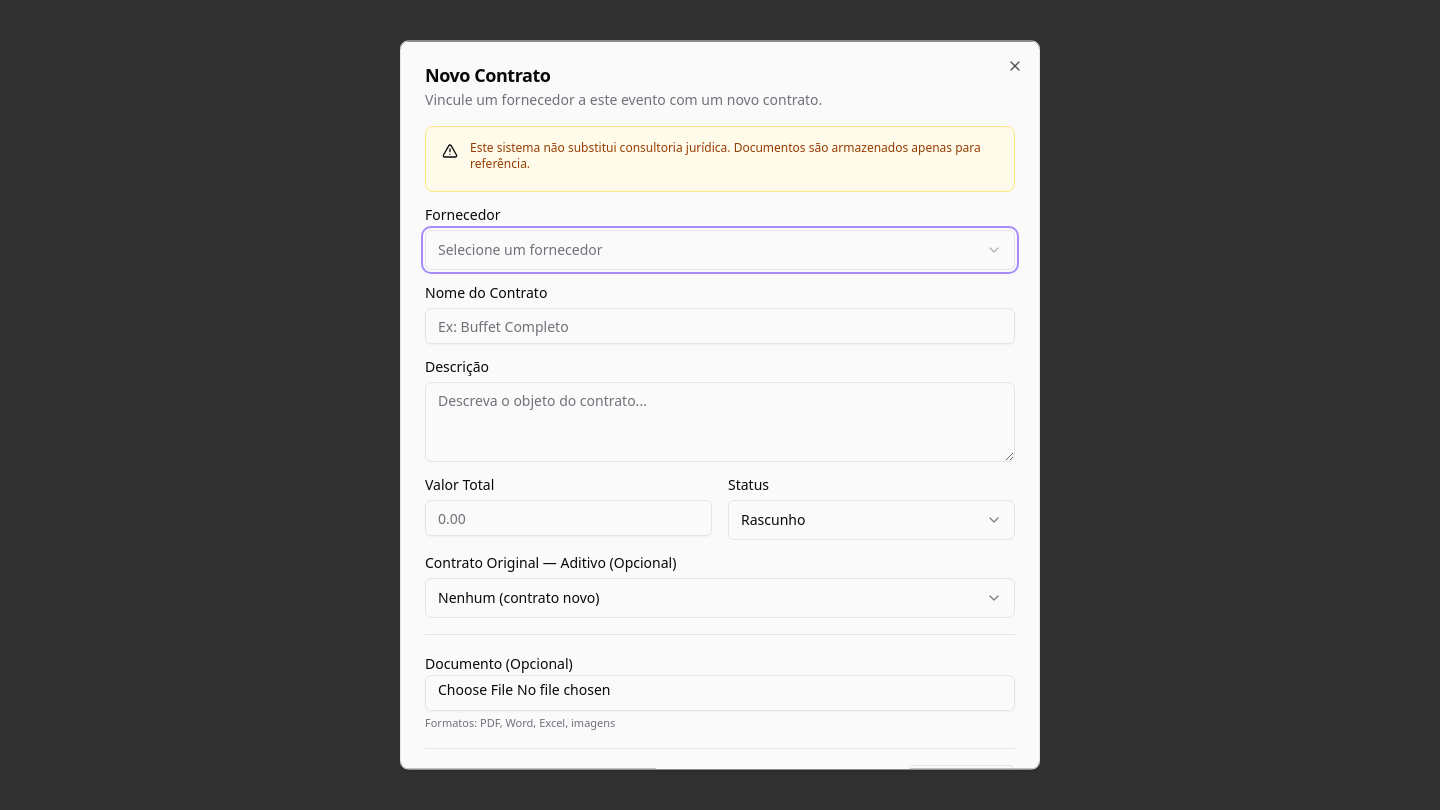
Test case: ContractUploadDialog › allows selecting an existing contract from parent dropdown when creating addendum
This screenshot has width=1440, height=810.
Click the dropdown named "contrato original" at (519, 597), box [425, 578, 1015, 618]
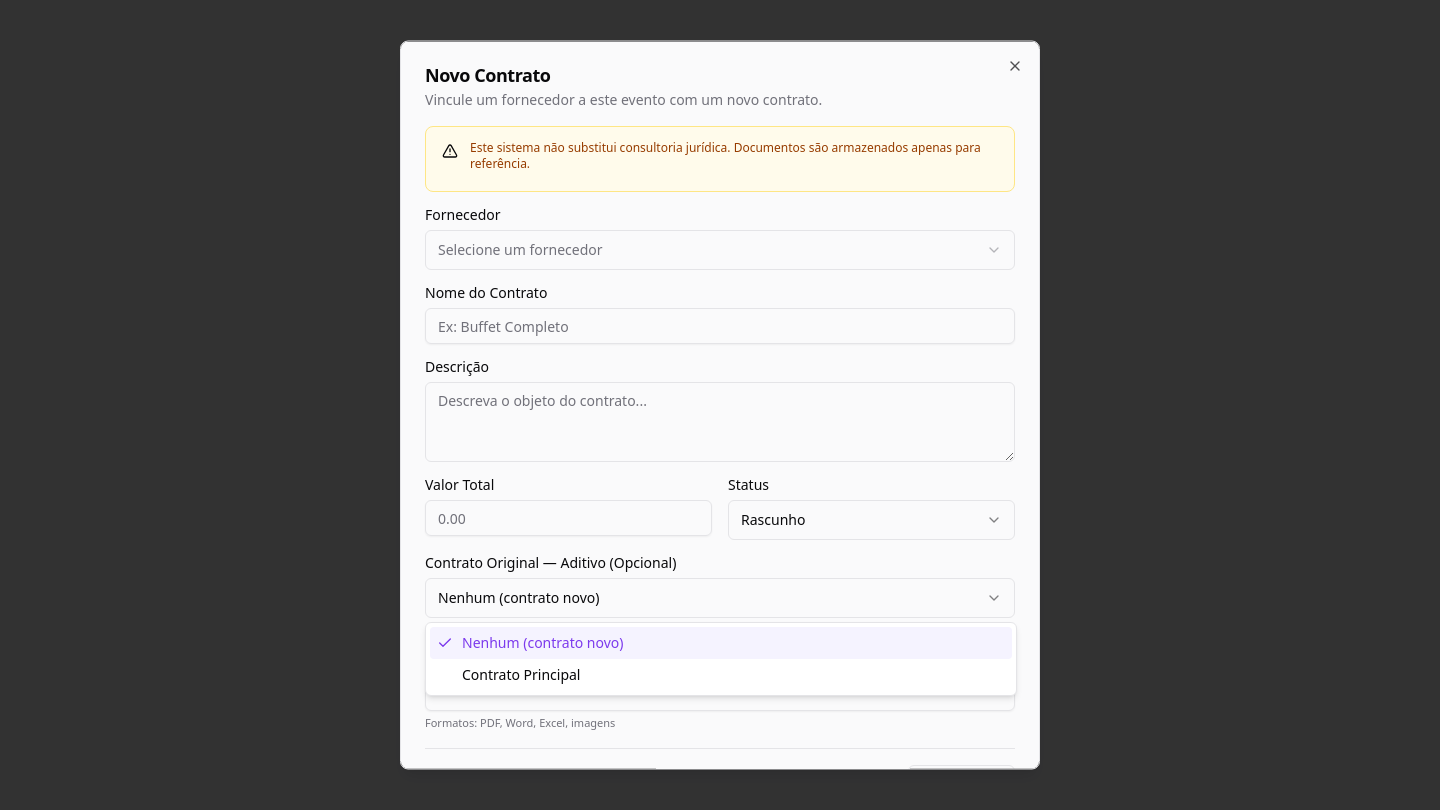
Click the option "Contrato Principal" at (521, 674), box [462, 665, 580, 684]
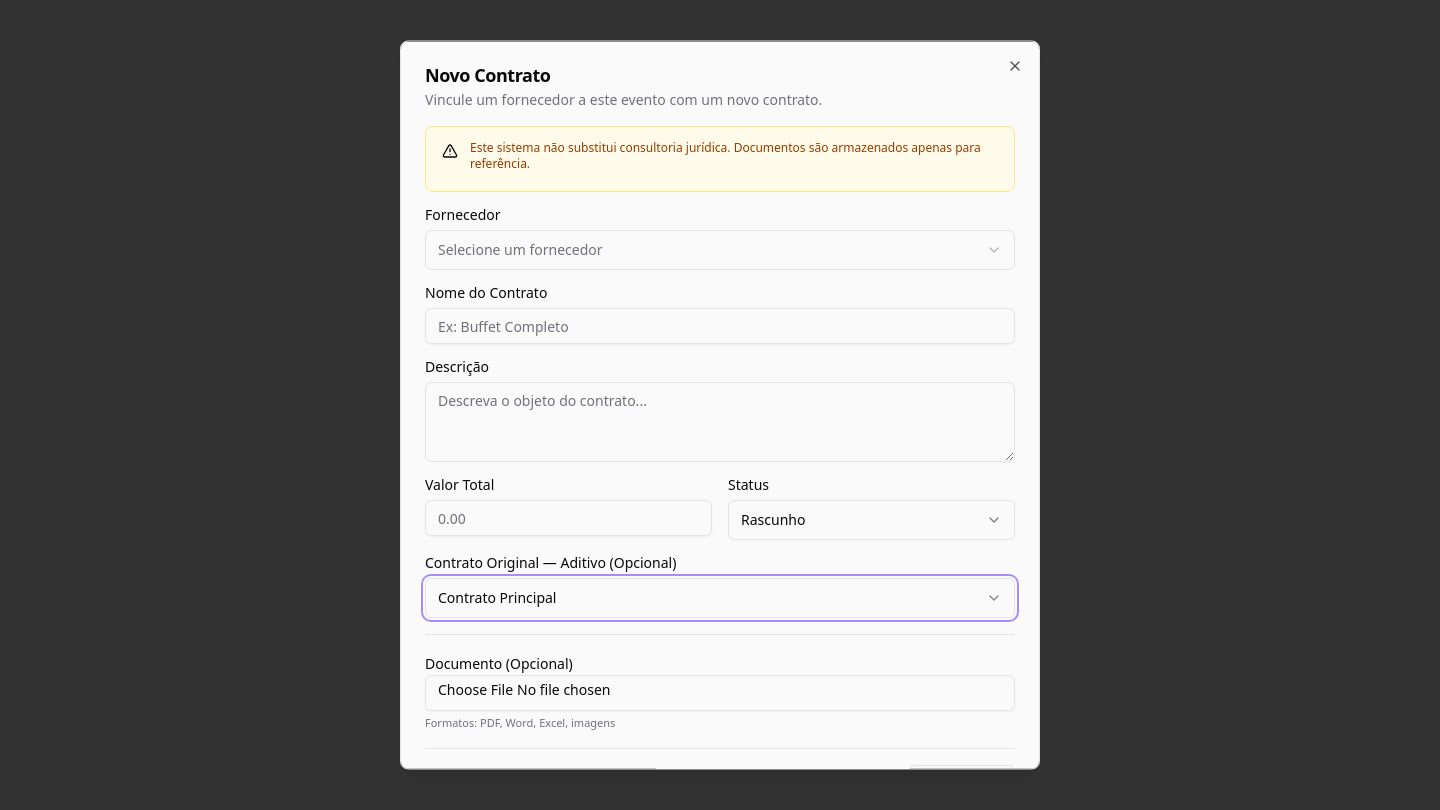
Expected: the dropdown named "contrato original" reads "Contrato Principal", [425, 578, 1015, 618]
